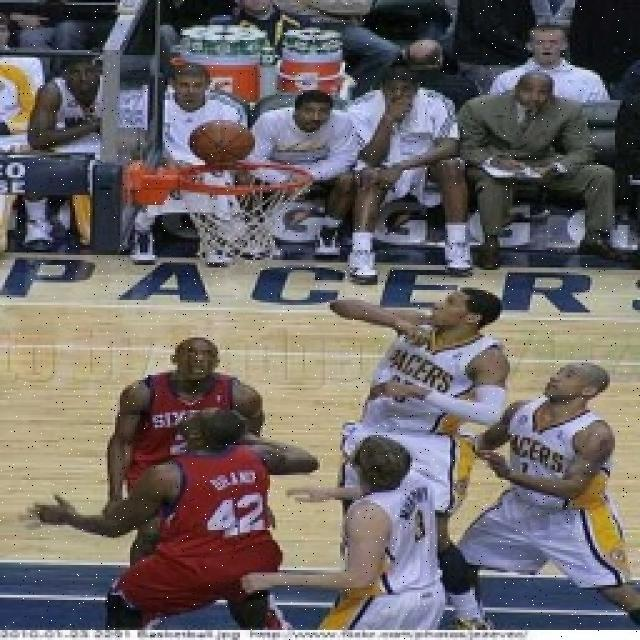ball: (182, 114, 264, 169)
